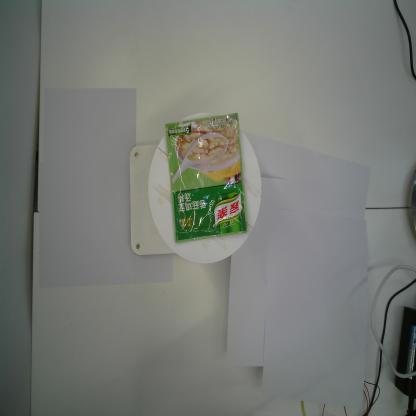Seasoner: (164, 112, 248, 244)
